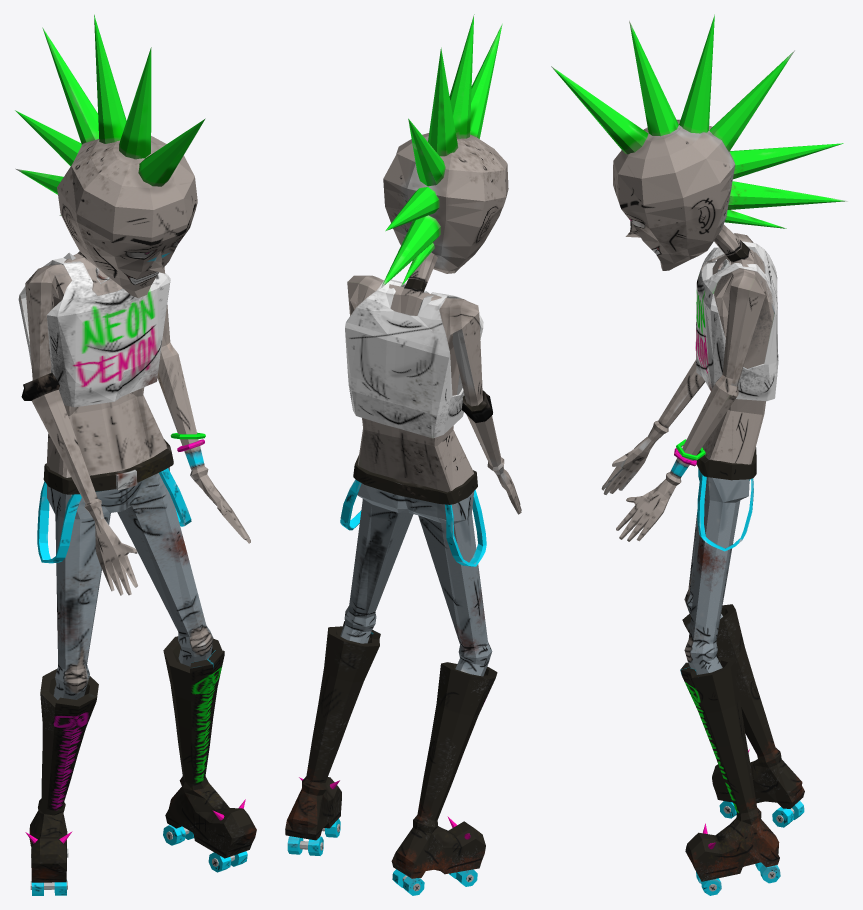
The model's file is punkAnimation_000027.obj.
The picture shows the model from 3 angles, left to right: view 1: azimuth 30°, elevation 25°; view 2: azimuth 150°, elevation 25°; view 3: azimuth 270°, elevation 25°; orthographic projection. The views are drawn at different scales.
Parts seen in each view (by area): view 1: Cube.004_Cube.003; view 2: Cube.004_Cube.003; view 3: Cube.004_Cube.003.
Boxes of the visible parts, x1=… form: Cube.004_Cube.003: x1=15, y1=14, x2=256, y2=895; Cube.004_Cube.003: x1=285, y1=14, x2=521, y2=895; Cube.004_Cube.003: x1=551, y1=14, x2=847, y2=895.
Bounding box in the file's own units: 1.9 × 7.41 × 2.46.
